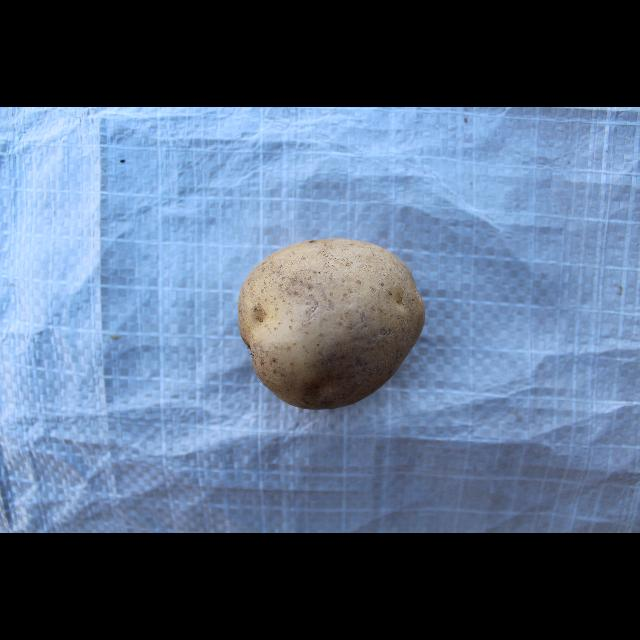Diseased-fungal potato: (231, 238, 425, 414)
